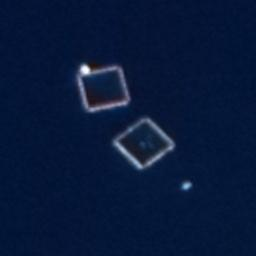square_solid: (111, 110, 180, 176), (71, 58, 136, 116)
